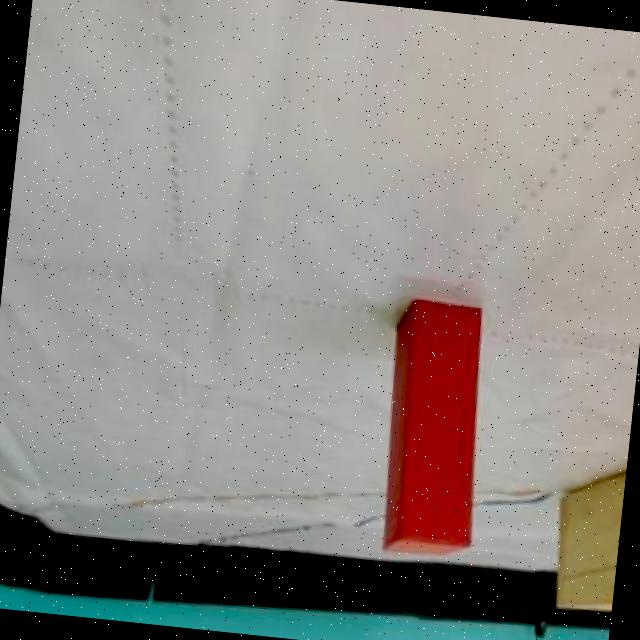redbox: (372, 296, 496, 562)
